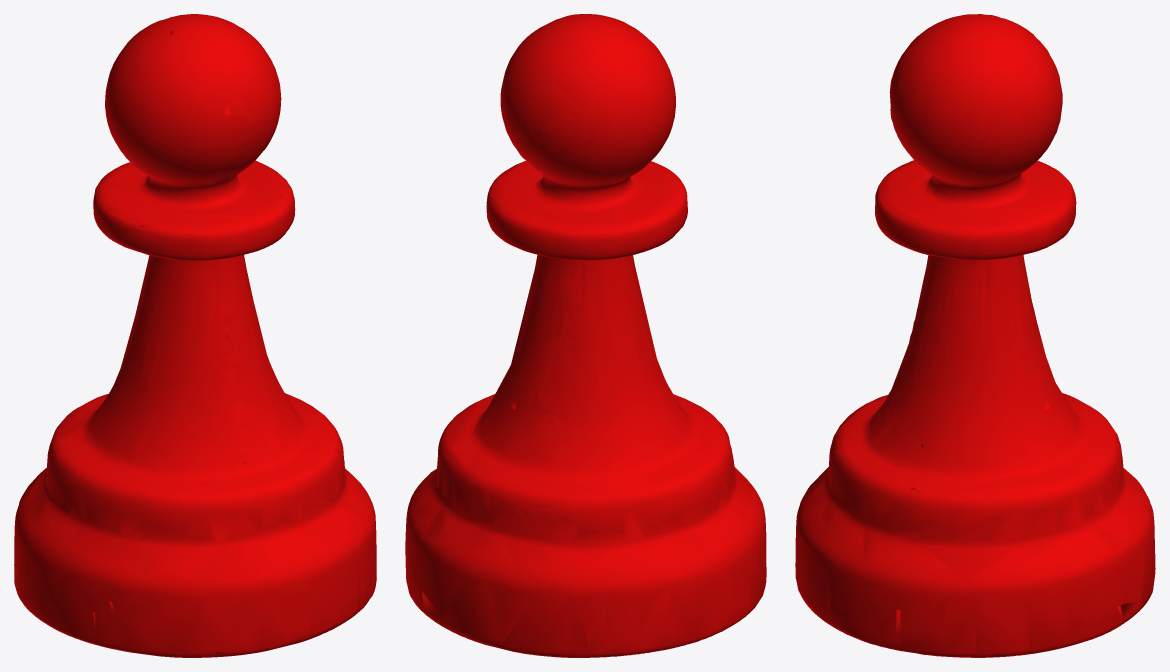
File: ficharoja.glb
The picture shows the model from 3 angles, left to right: view 1: azimuth 30°, elevation 25°; view 2: azimuth 150°, elevation 25°; view 3: azimuth 270°, elevation 25°; orthographic projection.
Visible parts, largest first — view 1: Mesh1.0; view 2: Mesh1.0; view 3: Mesh1.0.
Part boxes in pixels (x1,y1,x2,y2): Mesh1.0: [14, 14, 376, 657]; Mesh1.0: [405, 14, 766, 657]; Mesh1.0: [795, 14, 1155, 657].
Bounding box in the file's own units: 0.4603 × 0.7902 × 0.458.
